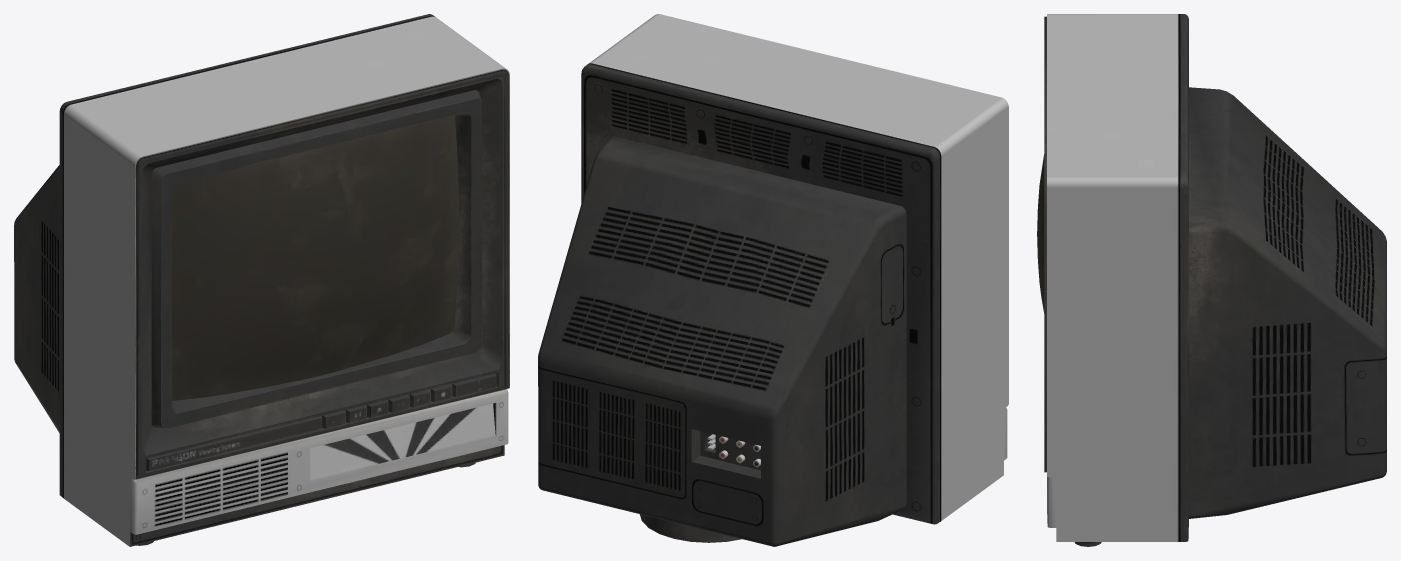
Rendered from television_02.glb.
3 renders of one model, left to right at view 1: azimuth 30°, elevation 25°; view 2: azimuth 150°, elevation 25°; view 3: azimuth 270°, elevation 25°, orthographic. The views are drawn at different scales.
Visible parts, largest first — view 1: television_02; view 2: television_02; view 3: television_02.
Part boxes in pixels (x1,y1,x2,y2): television_02: [14, 14, 509, 546]; television_02: [538, 14, 1008, 546]; television_02: [1037, 14, 1386, 546].
Bounding box in the file's own units: 0.3997 × 0.4114 × 0.3502.
1 material, 1 textured.
